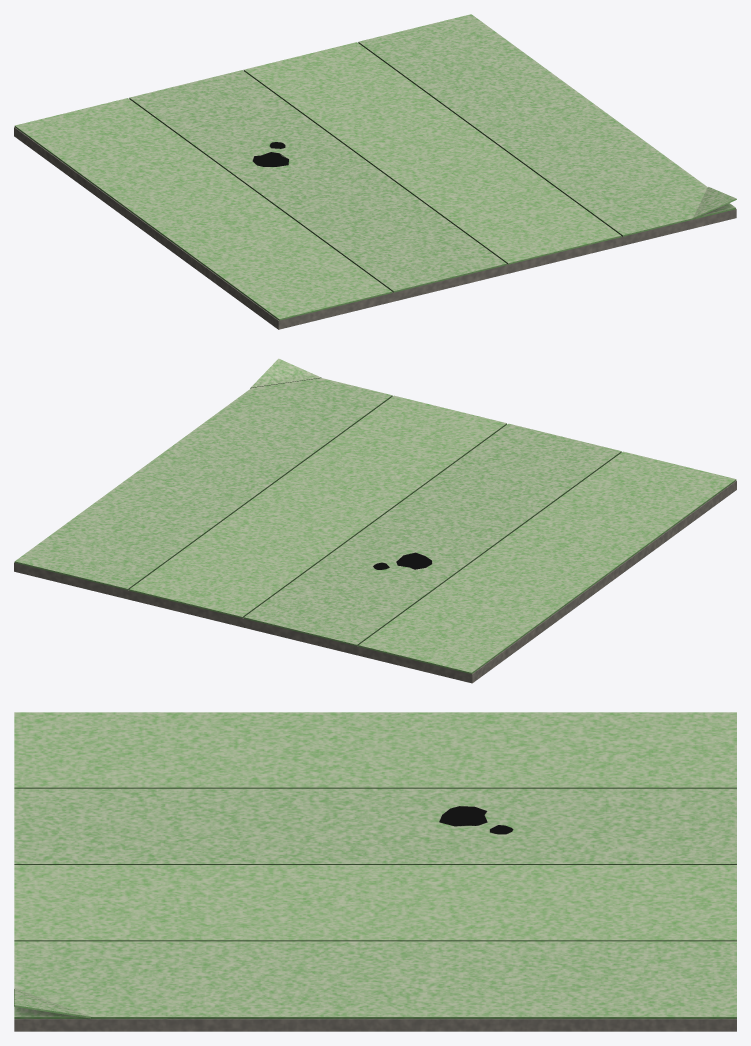
Rendered from turf_tile.fbx.
3 views of the same model, one above another, from view 1: azimuth 30°, elevation 25°; view 2: azimuth 150°, elevation 25°; view 3: azimuth 270°, elevation 25° (orthographic). The views are drawn at different scales.
Visible parts, largest first — view 1: Body; view 2: Body; view 3: Body.
Boxes of the visible parts, left/top/right/bottom form: Body: left=14, top=14, right=736, bottom=329; Body: left=14, top=358, right=736, bottom=683; Body: left=14, top=712, right=736, bottom=1031.
Size of the model in its own units: 32.01 by 1.3 by 32.01.
1 material, 1 textured.
